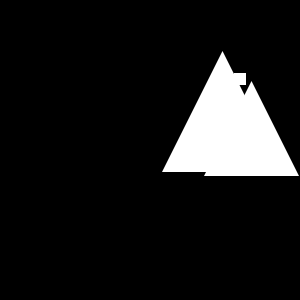circle: (234, 73, 246, 85)
triangle: (162, 51, 283, 172), (204, 81, 299, 176)
